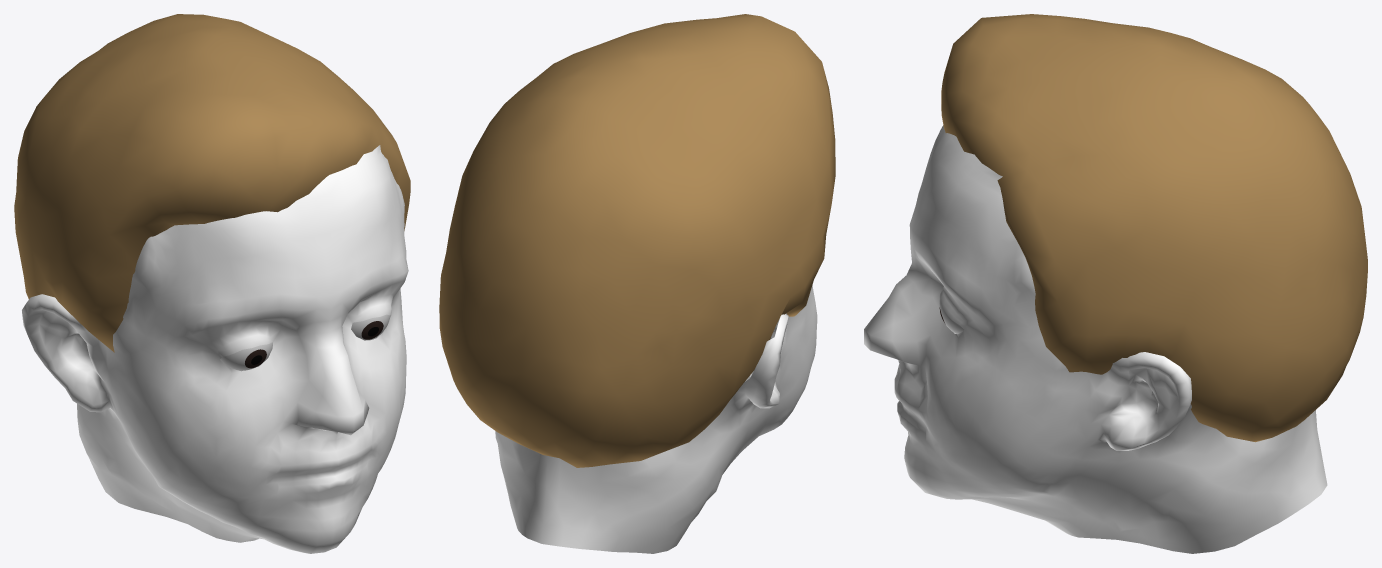
The model's file is head.glb.
The picture shows the model from 3 angles, left to right: view 1: azimuth 30°, elevation 25°; view 2: azimuth 150°, elevation 25°; view 3: azimuth 270°, elevation 25°; orthographic projection. The views are drawn at different scales.
Parts seen in each view (by area): view 1: Face.001; view 2: Face.001; view 3: Face.001.
Boxes of the visible parts, bbox=[...] form: Face.001: bbox=[14, 14, 410, 553]; Face.001: bbox=[439, 14, 835, 553]; Face.001: bbox=[864, 14, 1367, 553].
Bounding box in the file's own units: 0.1844 × 0.2468 × 0.2336.
Materials: 5 (1 with a texture image).
